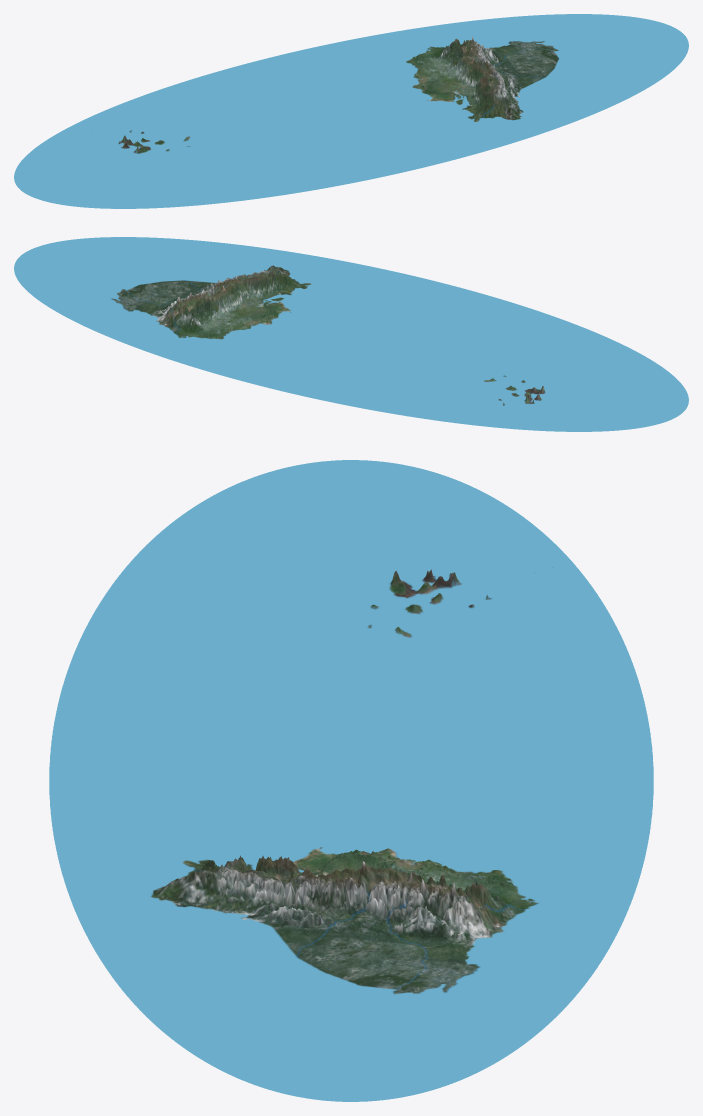
Rendered from ECU-previa-terrain.glb.
3 views of the same model, one above another, from view 1: azimuth 30°, elevation 25°; view 2: azimuth 150°, elevation 25°; view 3: azimuth 270°, elevation 25° (orthographic). The views are drawn at different scales.
Visible parts, largest first — view 1: Equador; view 2: Equador; view 3: Equador.
Boxes of the visible parts, x1=… form: Equador: x1=14, y1=14, x2=688, y2=208; Equador: x1=14, y1=237, x2=688, y2=431; Equador: x1=49, y1=460, x2=653, y2=1101.
Size of the model in its own units: 2.64 by 0.0828 by 1.05.
Materials: 1 (1 with a texture image).
